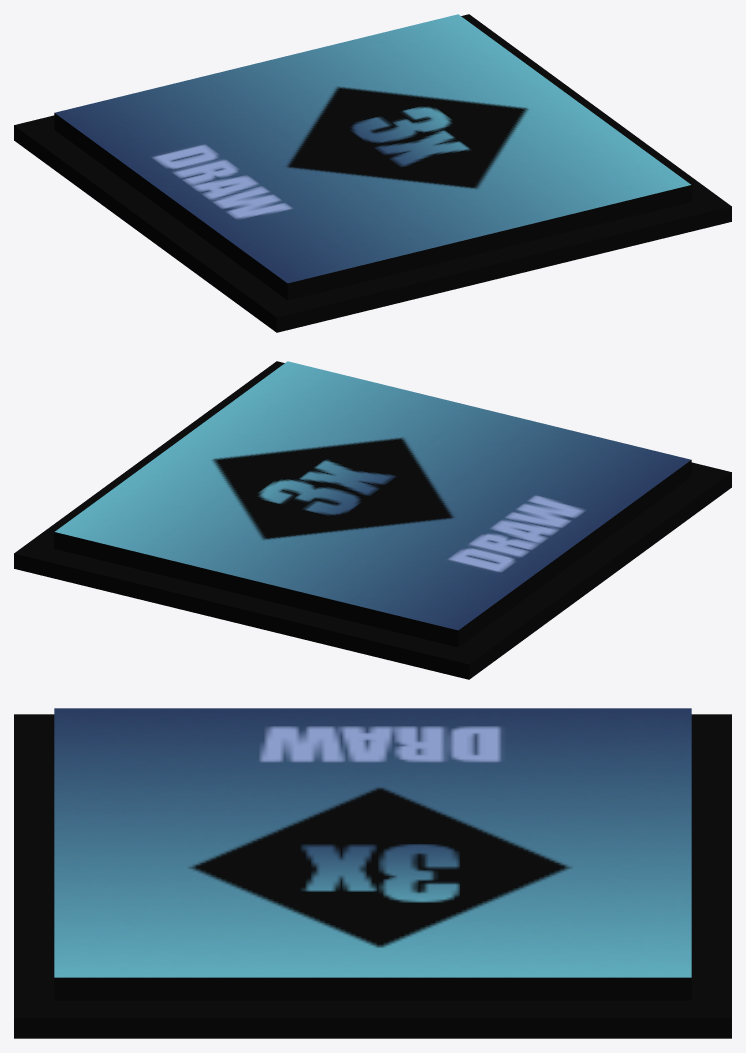
The model's file is Draw3xTile.fbx.
The picture shows the model from 3 angles, top to bottom: view 1: azimuth 30°, elevation 25°; view 2: azimuth 150°, elevation 25°; view 3: azimuth 270°, elevation 25°; orthographic projection. The views are drawn at different scales.
Parts seen in each view (by area): view 1: Draw3xTile; view 2: Draw3xTile; view 3: Draw3xTile.
Boxes of the visible parts, x1=… form: Draw3xTile: x1=14, y1=14, x2=731, y2=332; Draw3xTile: x1=14, y1=361, x2=731, y2=679; Draw3xTile: x1=14, y1=708, x2=731, y2=1038.
Bounding box in the file's own units: 2 × 0.1355 × 2.
